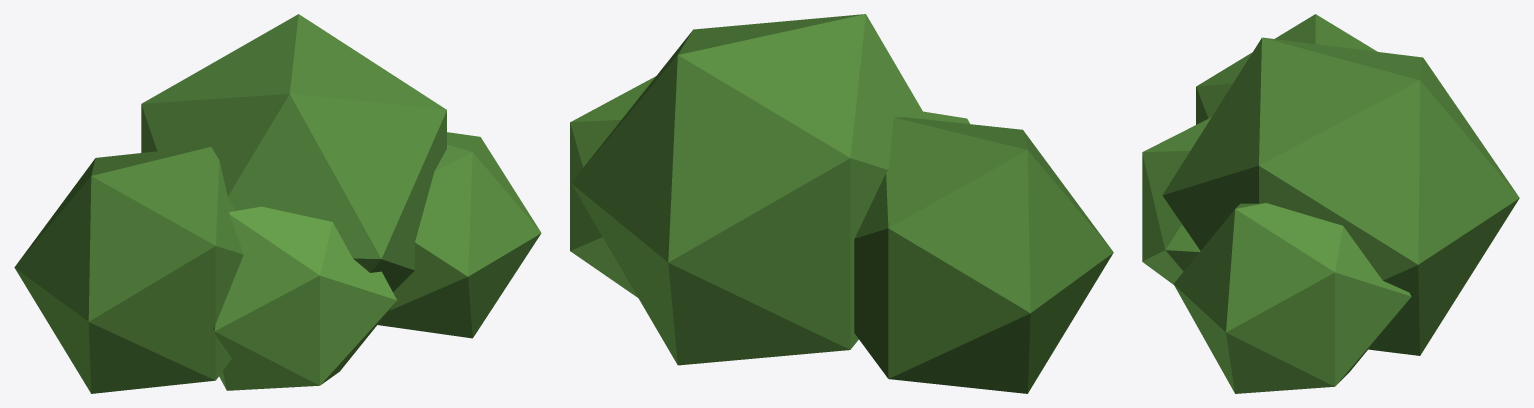
The model's file is Bush_Forest.glb.
3 renders of one model, left to right at view 1: azimuth 30°, elevation 25°; view 2: azimuth 150°, elevation 25°; view 3: azimuth 270°, elevation 25°, orthographic. The views are drawn at different scales.
Visible parts, largest first — view 1: Bush_Forest; view 2: Bush_Forest; view 3: Bush_Forest.
Boxes of the visible parts, left/top/right/bottom form: Bush_Forest: left=14, top=14, right=541, bottom=393; Bush_Forest: left=570, top=14, right=1113, bottom=393; Bush_Forest: left=1142, top=14, right=1519, bottom=393.
Size of the model in its own units: 1.34 by 0.8 by 0.9914.
